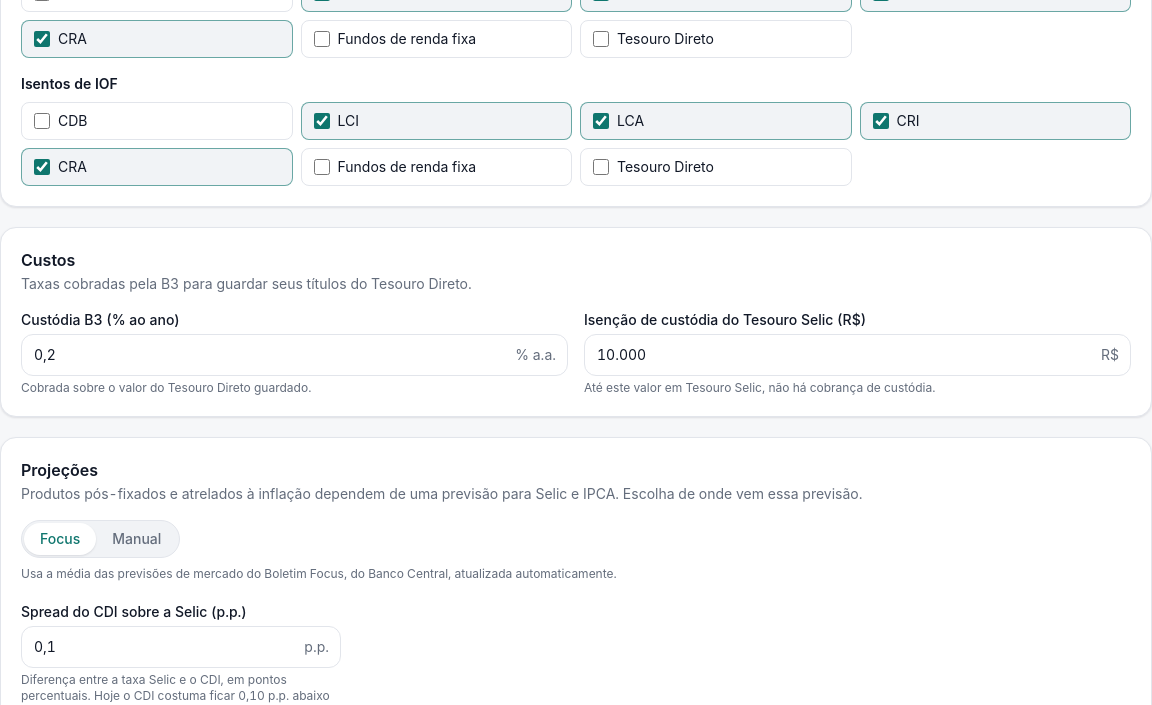
a barra de salvar só existe quando há alterações
(page scrolled)
Expected: the button "Salvar alterações" is not shown
Expected: the text "Você tem alterações" is not shown
Type "1" into the field labelled "Custódia B3 (% ao ano)". click: coordinates (294, 355)
box: [21, 334, 568, 376]
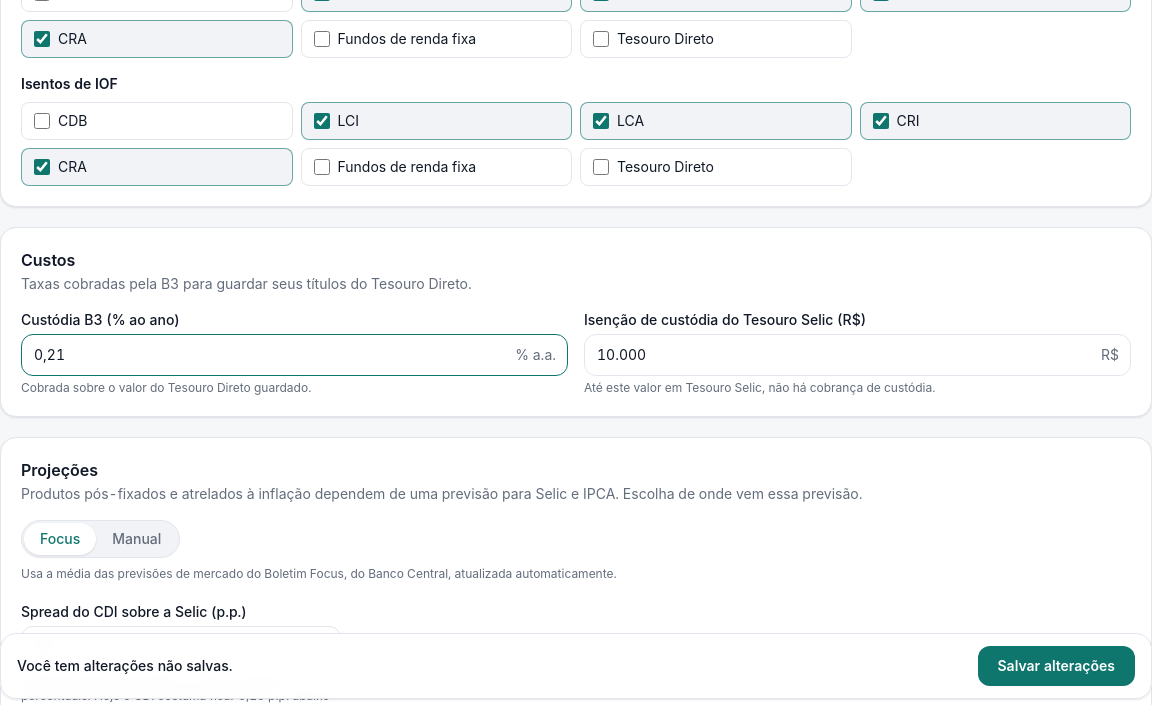
Expected: the button "Salvar alterações" is enabled, [978, 646, 1135, 686]
Expected: the text "Você tem alterações não salvas." is shown, [17, 657, 232, 674]
Clear the field labelled "Custódia B3 (% ao ano)". click: coordinates (294, 355)
box: [21, 334, 568, 376]
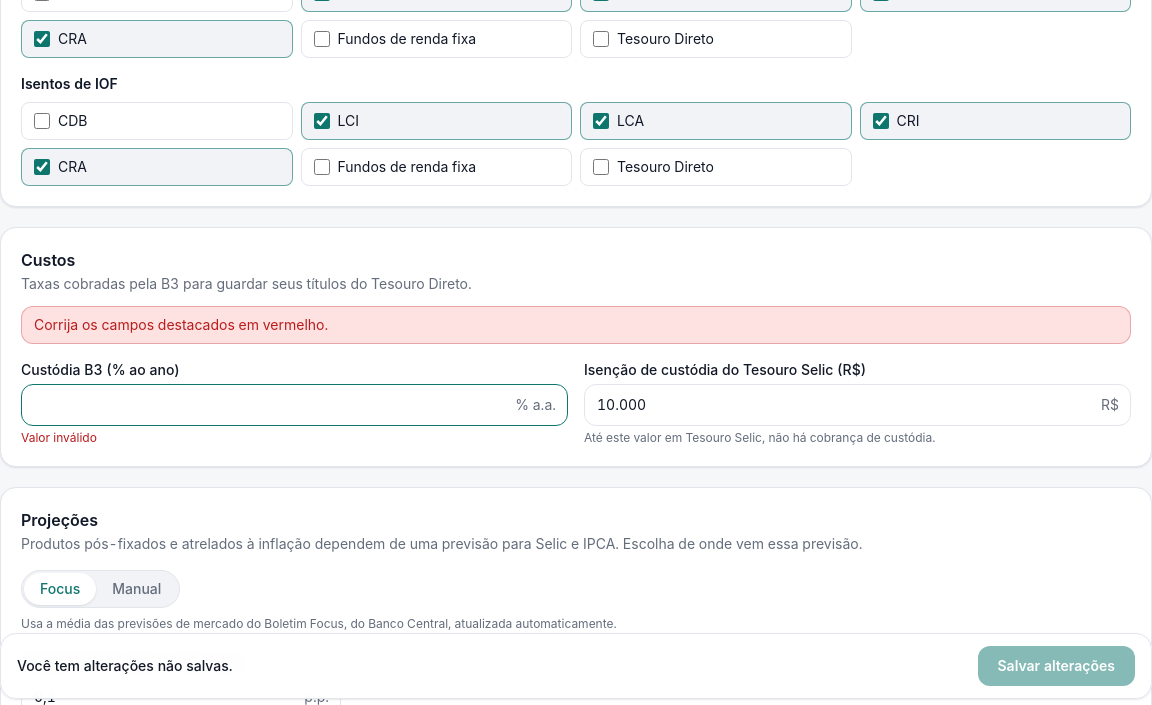
Type "0,2" into the field labelled "Custódia B3 (% ao ano)". click: coordinates (294, 405)
box: [21, 384, 568, 426]
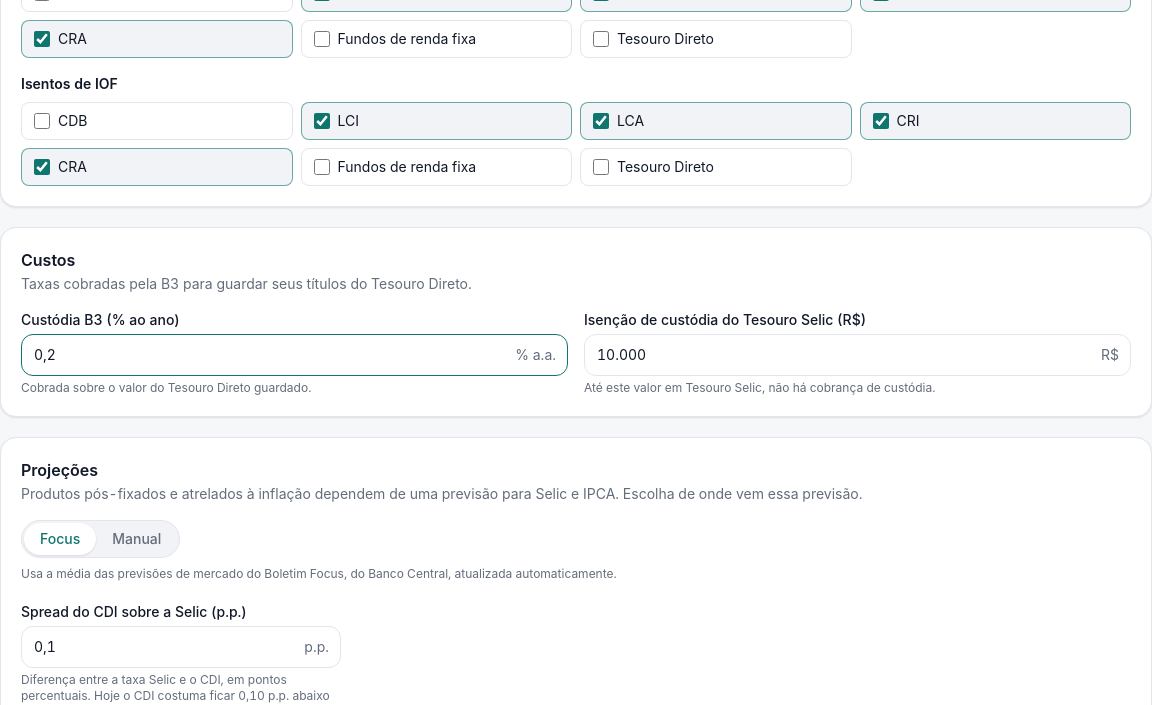
Expected: the button "Salvar alterações" is gone
